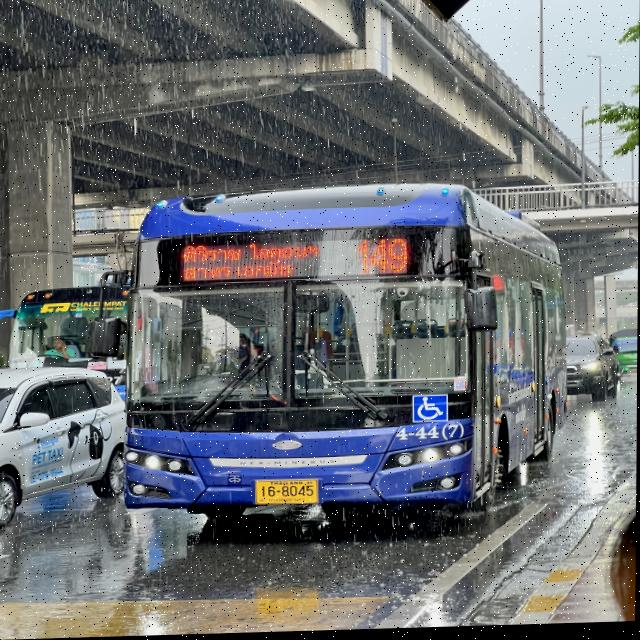Bus-Line-Number: (348, 236, 419, 279)
Destination-Sign-Normal: (174, 241, 326, 285)
TSB-Bus: (123, 183, 570, 540)
